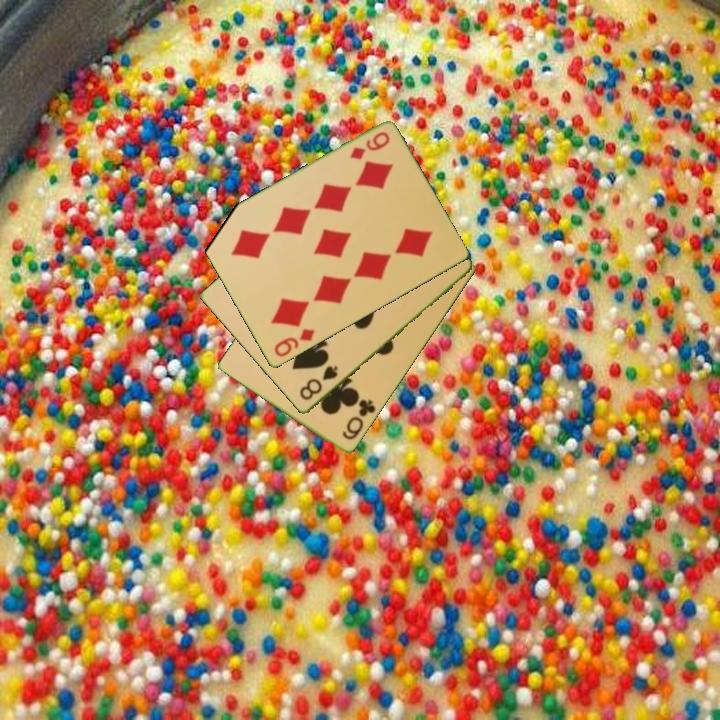6c: (339, 396, 379, 443)
8s: (296, 363, 341, 404)
9d: (270, 325, 318, 360), (346, 128, 393, 163)
